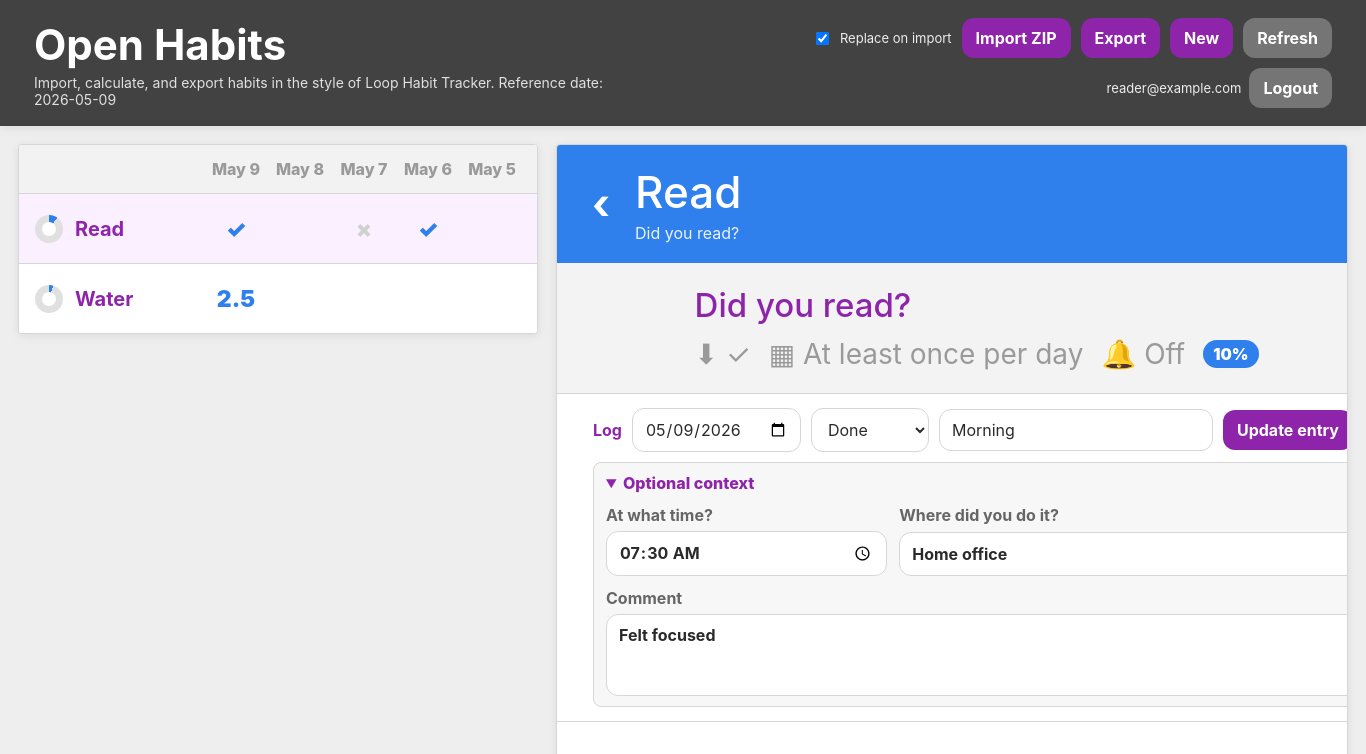
Test: App UI flows › opens the export modal with Android-compatible options selected
Expected: the heading "Read" is shown, [635,165,741,219]
Click the button "Export": (1120, 38) [1080,18,1160,58]
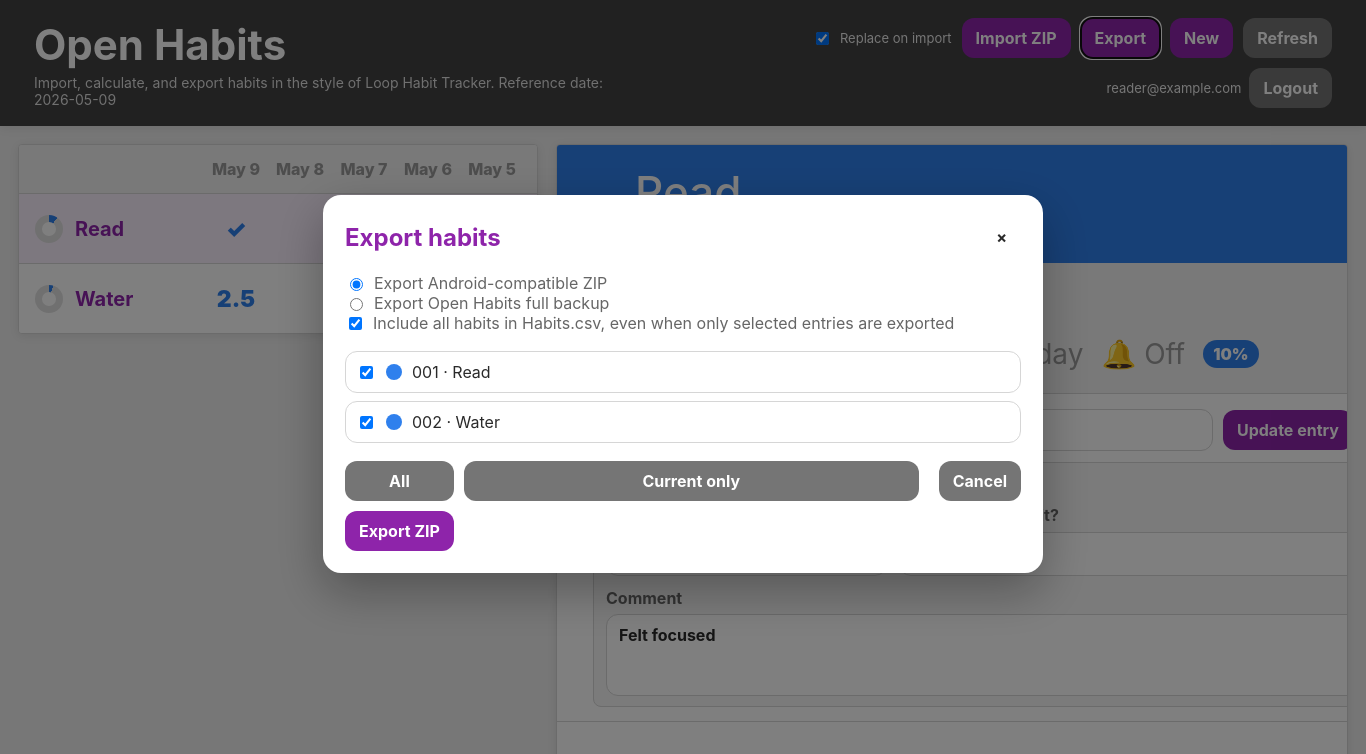
Expected: the heading "Export habits" is shown, [345,222,501,252]
Expected: the radio button labelled "Export Android-compatible ZIP" is checked, [350,278,363,291]
Expected: the radio button labelled "Export Open Habits full backup" is not checked, [350,298,363,311]
